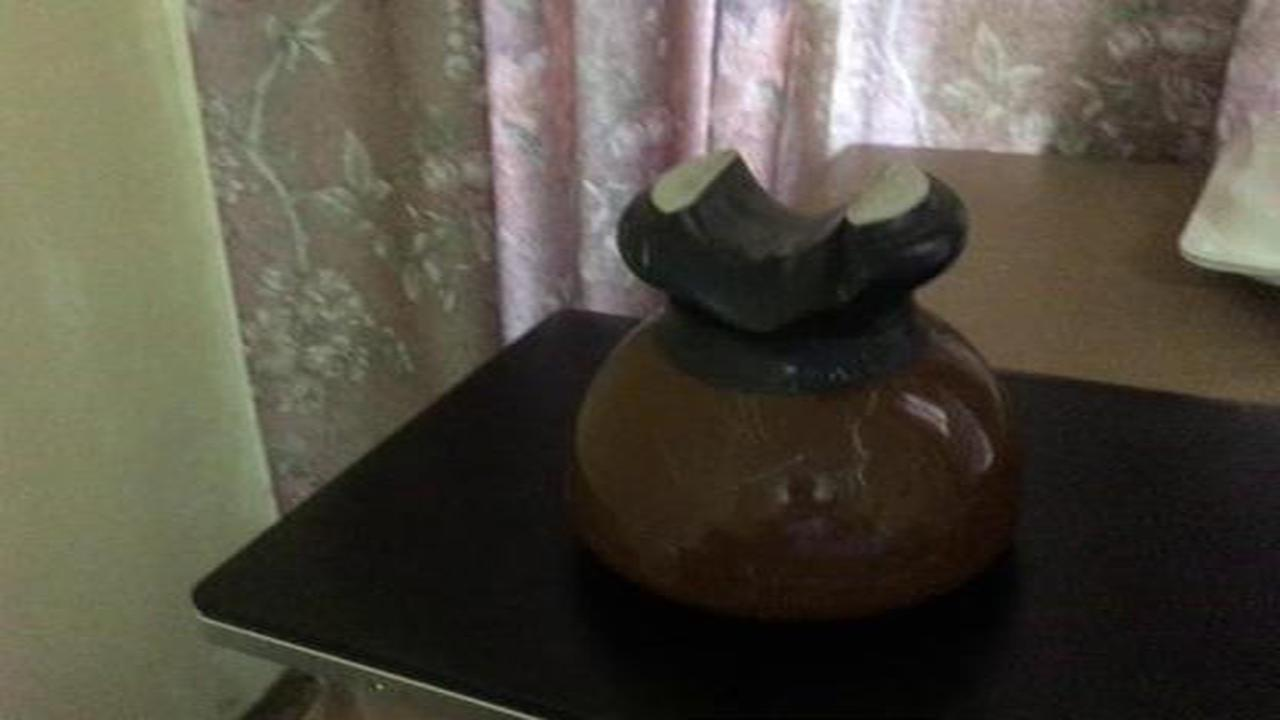insulator_pin: (536, 131, 1053, 634)
